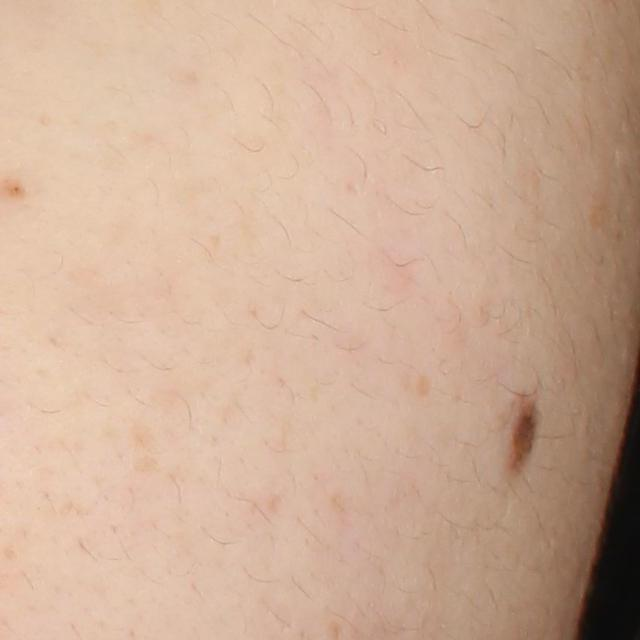nevus: (503, 385, 551, 493)
